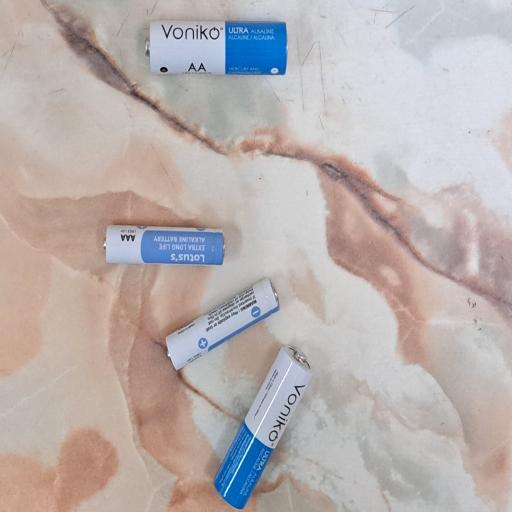battery: (2, 284, 127, 416), (106, 220, 178, 374), (328, 194, 368, 384), (186, 137, 216, 300)
